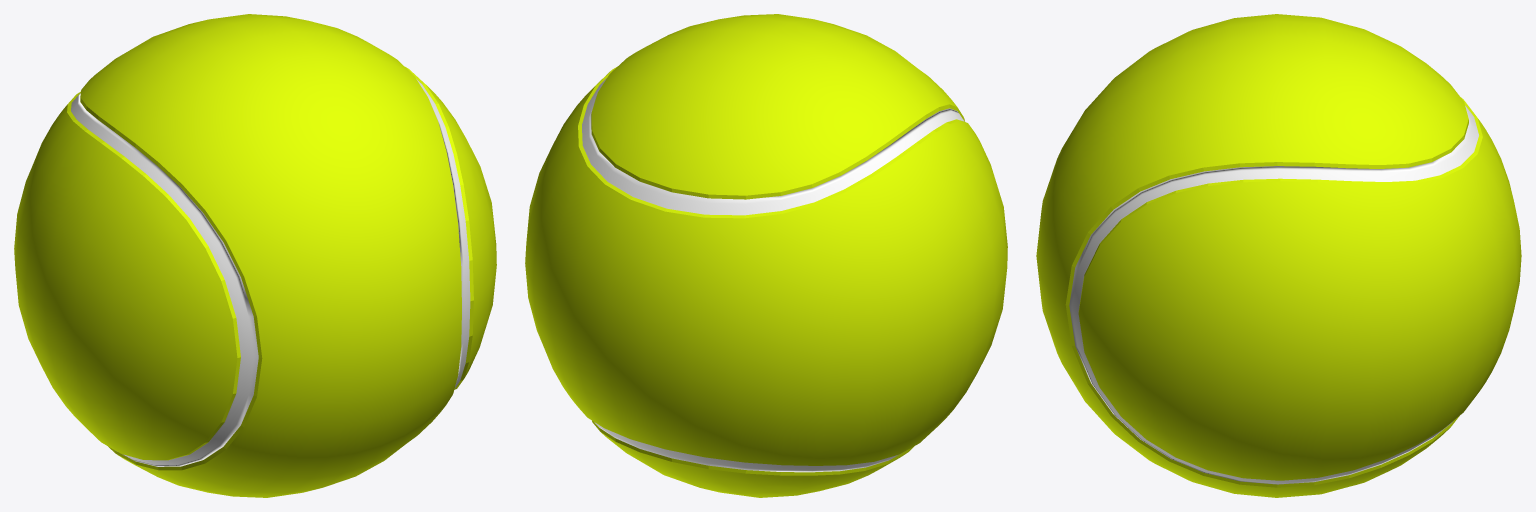
The model's file is Tennis Ball.fbx.
3 renders of one model, left to right at view 1: azimuth 30°, elevation 25°; view 2: azimuth 150°, elevation 25°; view 3: azimuth 270°, elevation 25°, orthographic.
Parts seen in each view (by area): view 1: Ball; view 2: Ball; view 3: Ball.
Boxes of the visible parts, bbox=[...] form: Ball: bbox=[14, 14, 496, 497]; Ball: bbox=[525, 14, 1007, 497]; Ball: bbox=[1036, 14, 1521, 497].
Bounding box in the file's own units: 84.36 × 84.36 × 84.37.
